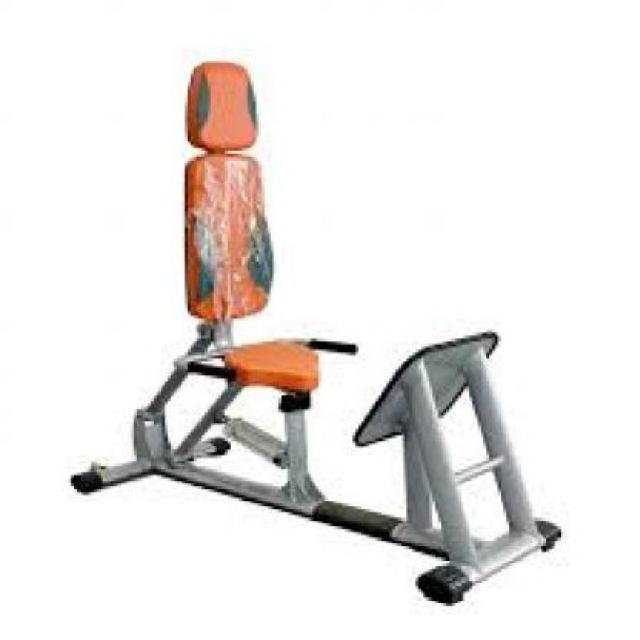leg press: (36, 52, 590, 611)
